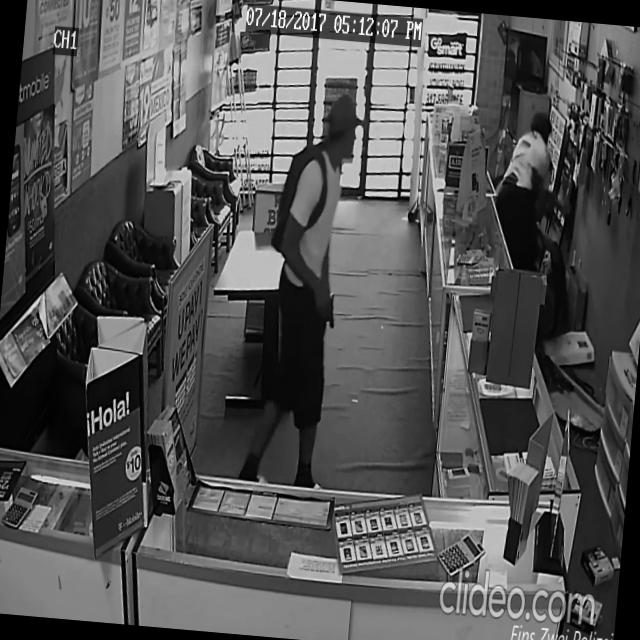gun: (319, 289, 338, 340)
person: (486, 106, 560, 319)
person with a gun: (232, 83, 370, 518)
